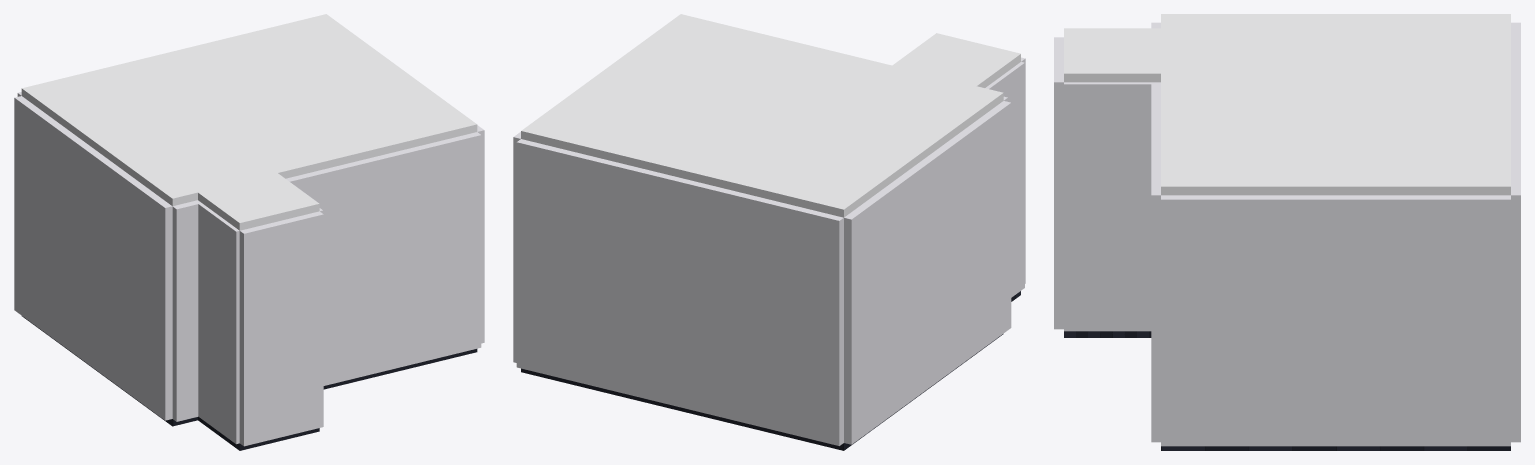
Rendered from group-a-essential.glb.
3 renders of one model, left to right at view 1: azimuth 30°, elevation 25°; view 2: azimuth 150°, elevation 25°; view 3: azimuth 270°, elevation 25°, orthographic. The views are drawn at different scales.
Parts seen in each view (by area): view 1: ceiling_main, wall_front_right, wall_left, wall_hallway_b, wall_hallway_l, wall_front_left, ceiling_hallway, floor_main, wall_right, floor_hallway; view 2: wall_rear, ceiling_main, wall_left, ceiling_hallway, wall_hallway_l, floor_main, wall_right; view 3: wall_right, ceiling_main, wall_hallway_r, ceiling_hallway, wall_rear, wall_front_right, wall_hallway_b, floor_main, floor_hallway.
Part boxes in pixels (x1,y1,x2,y2): ceiling_main: (21, 14, 477, 206); wall_front_right: (286, 132, 481, 385); wall_left: (14, 96, 172, 420); wall_hallway_b: (239, 211, 323, 446); wall_hallway_l: (194, 200, 239, 444); wall_front_left: (172, 201, 201, 421); ceiling_hallway: (198, 173, 319, 230); floor_main: (22, 316, 477, 426); wall_right: (477, 125, 484, 343); floor_hallway: (198, 416, 319, 450); wall_rear: (516, 139, 843, 445); ceiling_main: (521, 14, 1003, 217); wall_left: (844, 101, 1011, 444); ceiling_hallway: (892, 33, 1020, 87); wall_hallway_l: (985, 62, 1024, 297); floor_main: (521, 334, 1003, 450); wall_right: (513, 132, 520, 362); wall_right: (1161, 195, 1510, 446); ceiling_main: (1161, 14, 1510, 195); wall_hallway_r: (1064, 82, 1151, 331); ceiling_hallway: (1064, 28, 1160, 82); wall_rear: (1511, 22, 1520, 442); wall_front_right: (1151, 82, 1160, 442); wall_hallway_b: (1054, 37, 1063, 329); floor_main: (1161, 446, 1510, 450); floor_hallway: (1064, 331, 1151, 337).
Bounding box in the file's own units: 4.4 × 3 × 4.8.
Materials: 24 (4 with a texture image).
